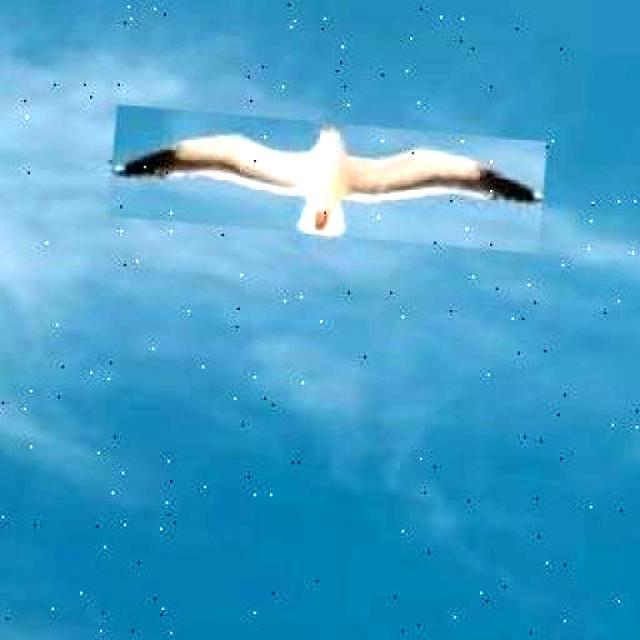airplane: (106, 104, 546, 252)
